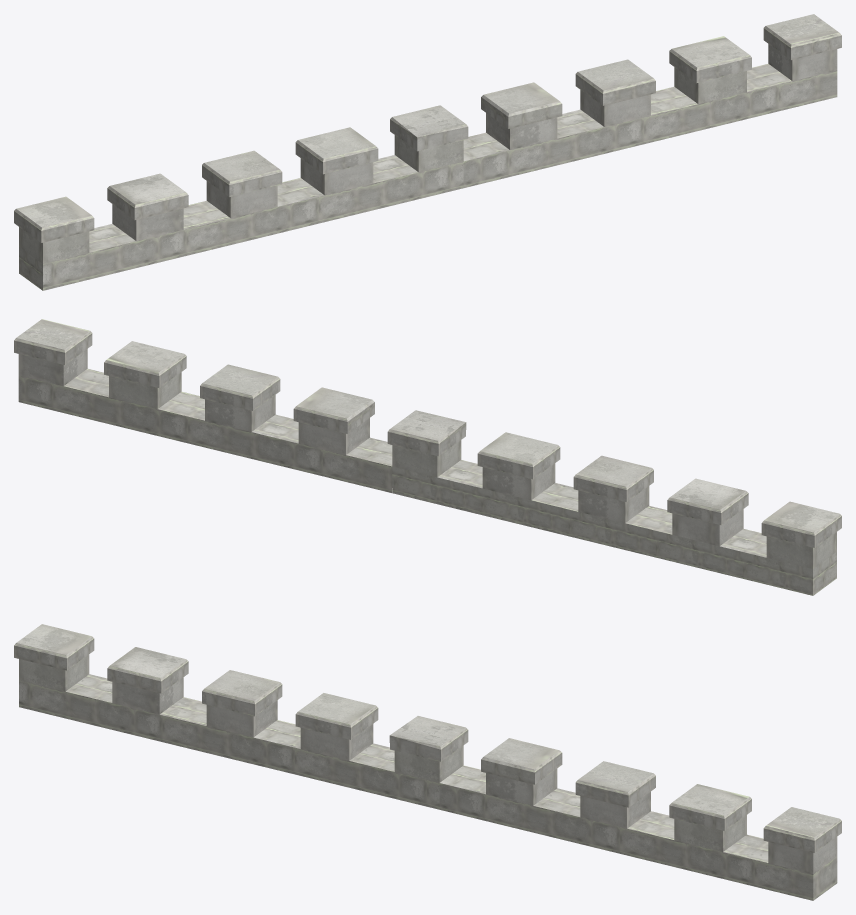
File: 머리기둥.fbx
The picture shows the model from 3 angles, top to bottom: view 1: azimuth 30°, elevation 25°; view 2: azimuth 150°, elevation 25°; view 3: azimuth 330°, elevation 25°; orthographic projection.
Parts seen in each view (by area): view 1: 큰벽머리; view 2: 큰벽머리; view 3: 큰벽머리.
Part boxes in pixels (box(x1,y1,x2,y2)): 큰벽머리: box(14, 14, 841, 290); 큰벽머리: box(14, 319, 841, 595); 큰벽머리: box(14, 624, 841, 900).
Size of what is drawn, in the model's own units: 2457 by 146 by 189.
